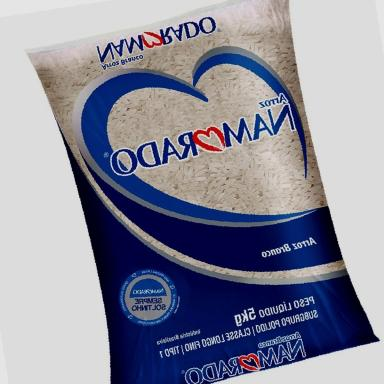rice package: (29, 0, 377, 383)
